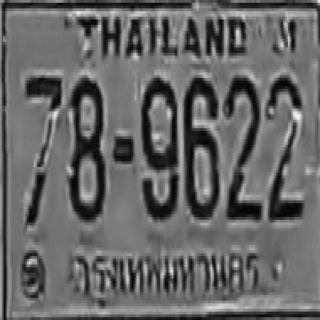N02: (266, 72, 303, 217), (224, 74, 259, 218)
N06: (182, 75, 217, 217)
N07: (24, 72, 62, 223)
N08: (68, 75, 104, 217)
N09: (140, 75, 177, 217)
P04: (68, 245, 267, 309)
